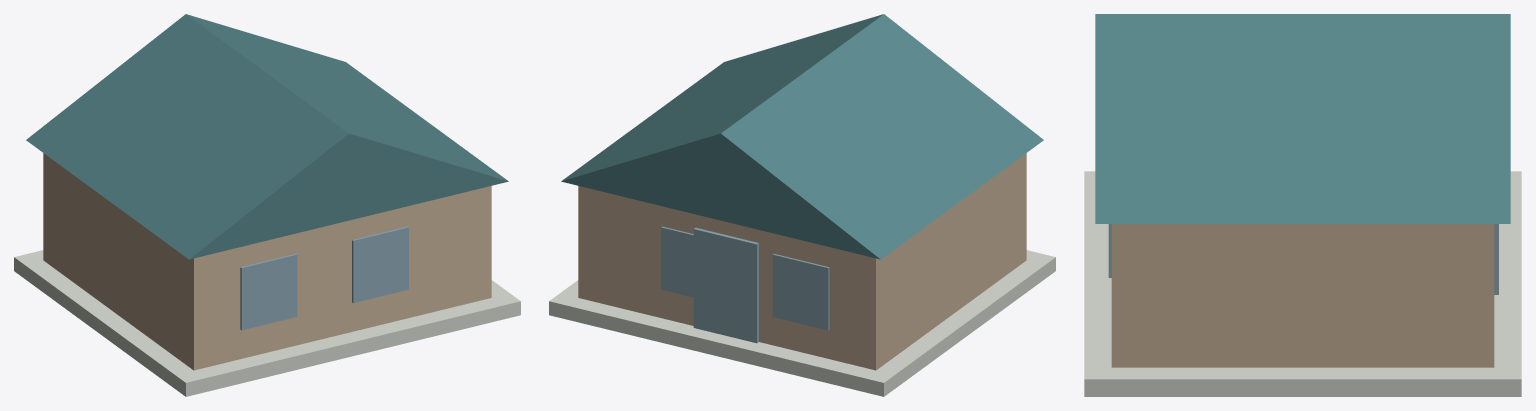
File: island_bungalow.glb
3 renders of one model, left to right at view 1: azimuth 30°, elevation 25°; view 2: azimuth 150°, elevation 25°; view 3: azimuth 270°, elevation 25°, orthographic. The views are drawn at different scales.
Visible parts, largest first — view 1: island_bungalow__roof, island_bungalow__walls, island_bungalow__plinth, island_bungalow__window, island_bungalow__window.002; view 2: island_bungalow__roof, island_bungalow__walls, island_bungalow__plinth, island_bungalow__front_door, island_bungalow__window.001, island_bungalow__window.003; view 3: island_bungalow__roof, island_bungalow__walls, island_bungalow__plinth.
Boxes of the visible parts, bbox=[...] form: island_bungalow__roof: bbox=[26, 14, 508, 259]; island_bungalow__walls: bbox=[43, 153, 491, 370]; island_bungalow__plinth: bbox=[14, 250, 520, 396]; island_bungalow__window: bbox=[240, 254, 297, 330]; island_bungalow__window.002: bbox=[352, 226, 408, 303]; island_bungalow__roof: bbox=[561, 14, 1043, 259]; island_bungalow__walls: bbox=[578, 153, 1026, 370]; island_bungalow__plinth: bbox=[549, 250, 1055, 396]; island_bungalow__front_door: bbox=[693, 227, 758, 343]; island_bungalow__window.001: bbox=[772, 254, 829, 330]; island_bungalow__window.003: bbox=[661, 226, 693, 297]; island_bungalow__roof: bbox=[1095, 14, 1510, 223]; island_bungalow__walls: bbox=[1111, 224, 1494, 367]; island_bungalow__plinth: bbox=[1084, 171, 1521, 396].
Bounding box in the file's own units: 9 × 5.64 × 8.
